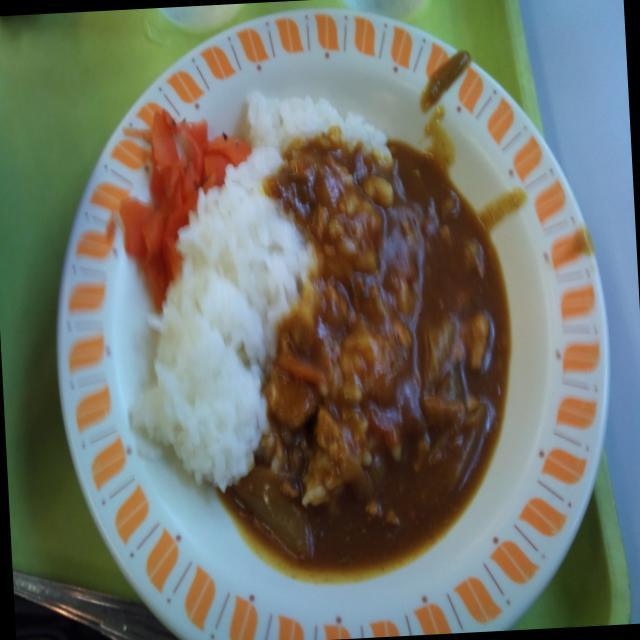Beef Curry: (268, 146, 511, 562)
